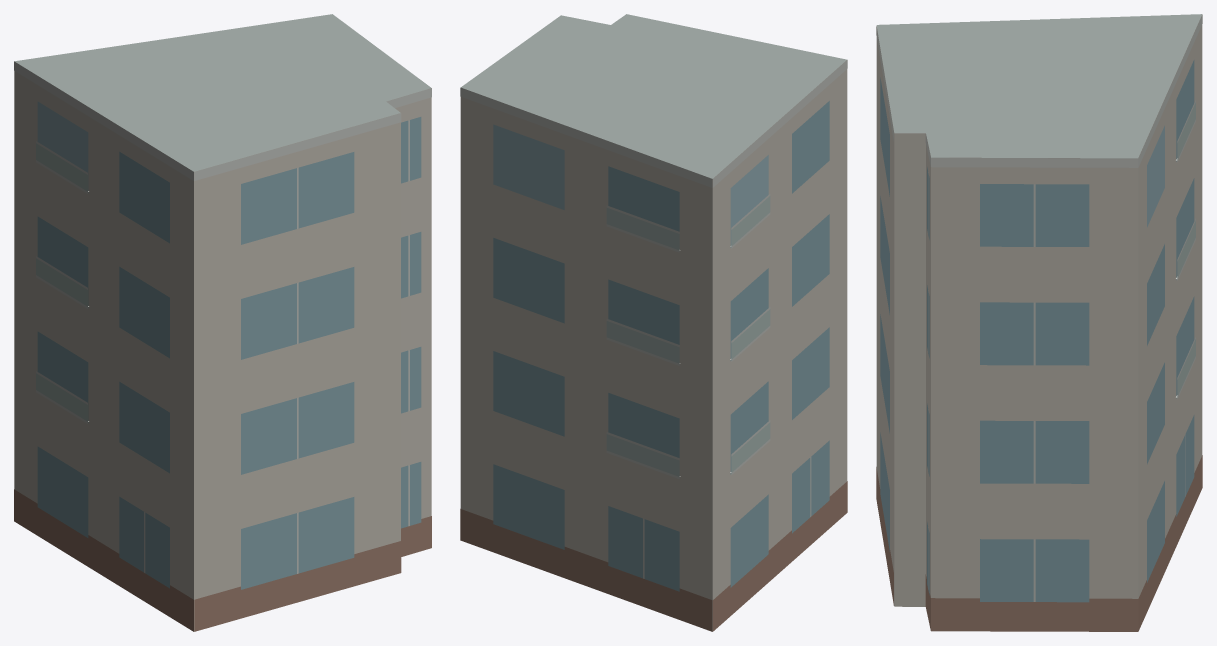
The model's file is survey-upis-32749971.glb.
3 views of the same model, side by side, from view 1: azimuth 30°, elevation 25°; view 2: azimuth 150°, elevation 25°; view 3: azimuth 270°, elevation 25° (orthographic). The views are drawn at different scales.
Visible parts, largest first — view 1: survey-upis-32749971.tmp; view 2: survey-upis-32749971.tmp; view 3: survey-upis-32749971.tmp.
Part boxes in pixels (bbox=[...]): survey-upis-32749971.tmp: bbox=[14, 14, 431, 631]; survey-upis-32749971.tmp: bbox=[460, 14, 847, 631]; survey-upis-32749971.tmp: bbox=[876, 14, 1202, 631].
Size of the model in its own units: 7.92 by 12.1 by 7.56.
